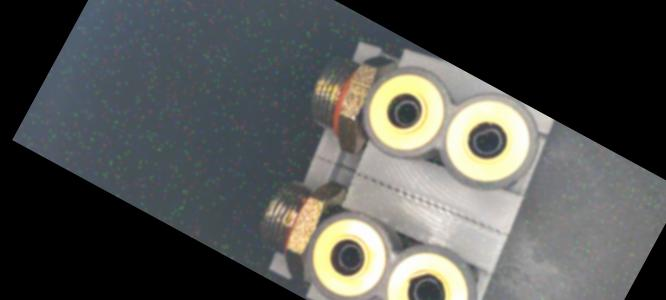off-centered: (462, 116, 512, 165), (404, 270, 452, 300)
